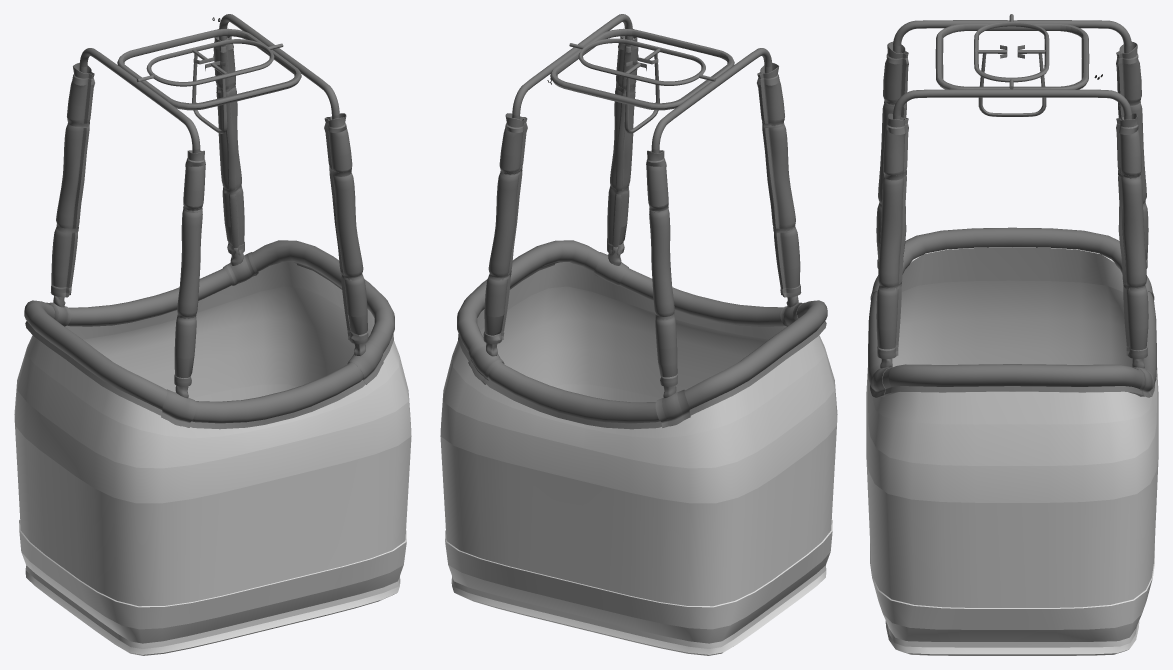
The model's file is level20.1.fbx.
3 views of the same model, side by side, from view 1: azimuth 30°, elevation 25°; view 2: azimuth 150°, elevation 25°; view 3: azimuth 270°, elevation 25° (orthographic). The views are drawn at different scales.
Parts seen in each view (by area): view 1: polySurface97; view 2: polySurface97; view 3: polySurface97.
Boxes of the visible parts, left/top/right/bottom form: polySurface97: left=14, top=14, right=411, bottom=655; polySurface97: left=440, top=14, right=837, bottom=655; polySurface97: left=866, top=14, right=1158, bottom=655.
Size of the model in its own units: 3.87 by 6.25 by 3.09.
